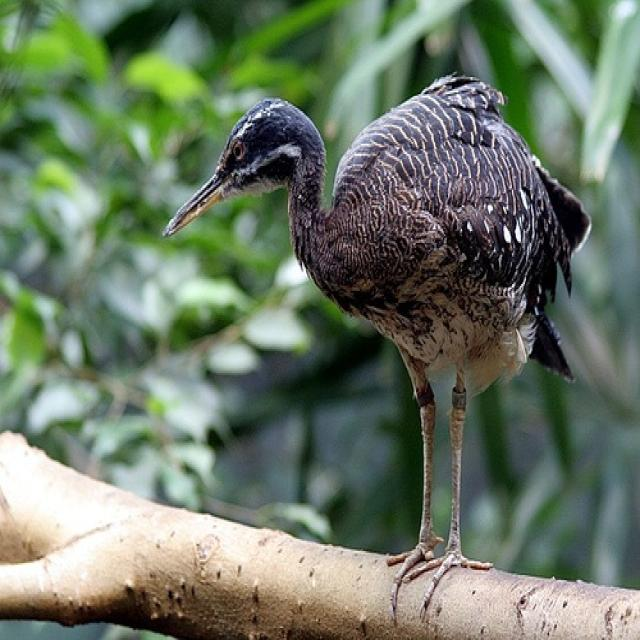bird: (158, 72, 590, 626)
